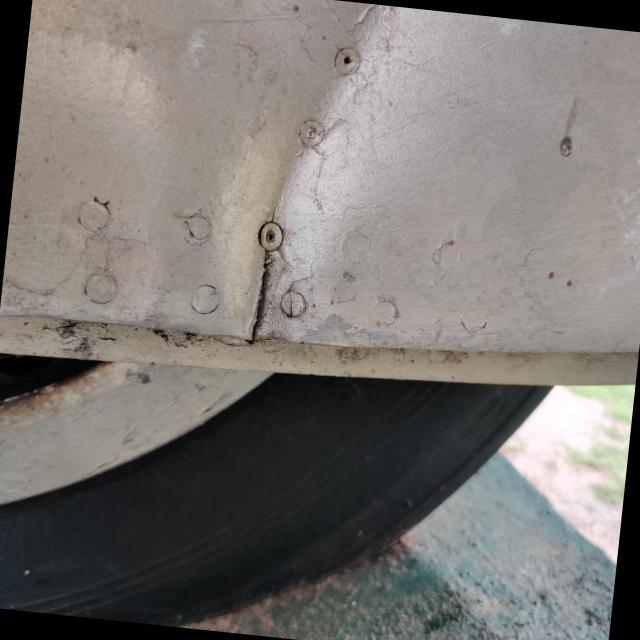Rupture: (212, 226, 306, 352)
